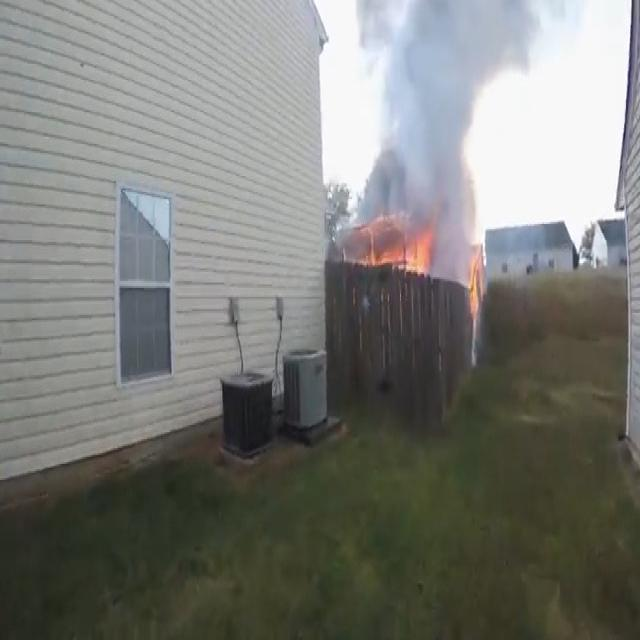fire: (336, 214, 441, 271)
smoke: (390, 14, 467, 213)
